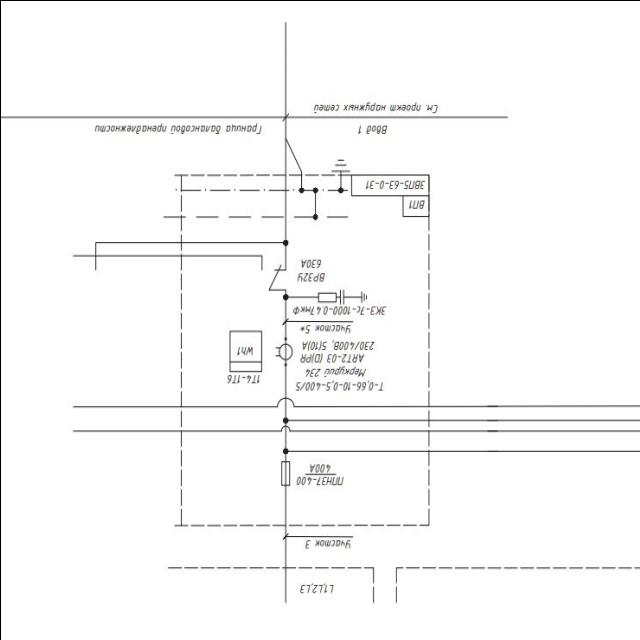-: (300, 337, 374, 379), (293, 379, 385, 394), (294, 462, 342, 488), (361, 177, 427, 193), (293, 258, 326, 286)
FU: (279, 459, 289, 486)
TT: (273, 340, 293, 364)
WH: (228, 328, 262, 372)
switch: (258, 264, 288, 292)
